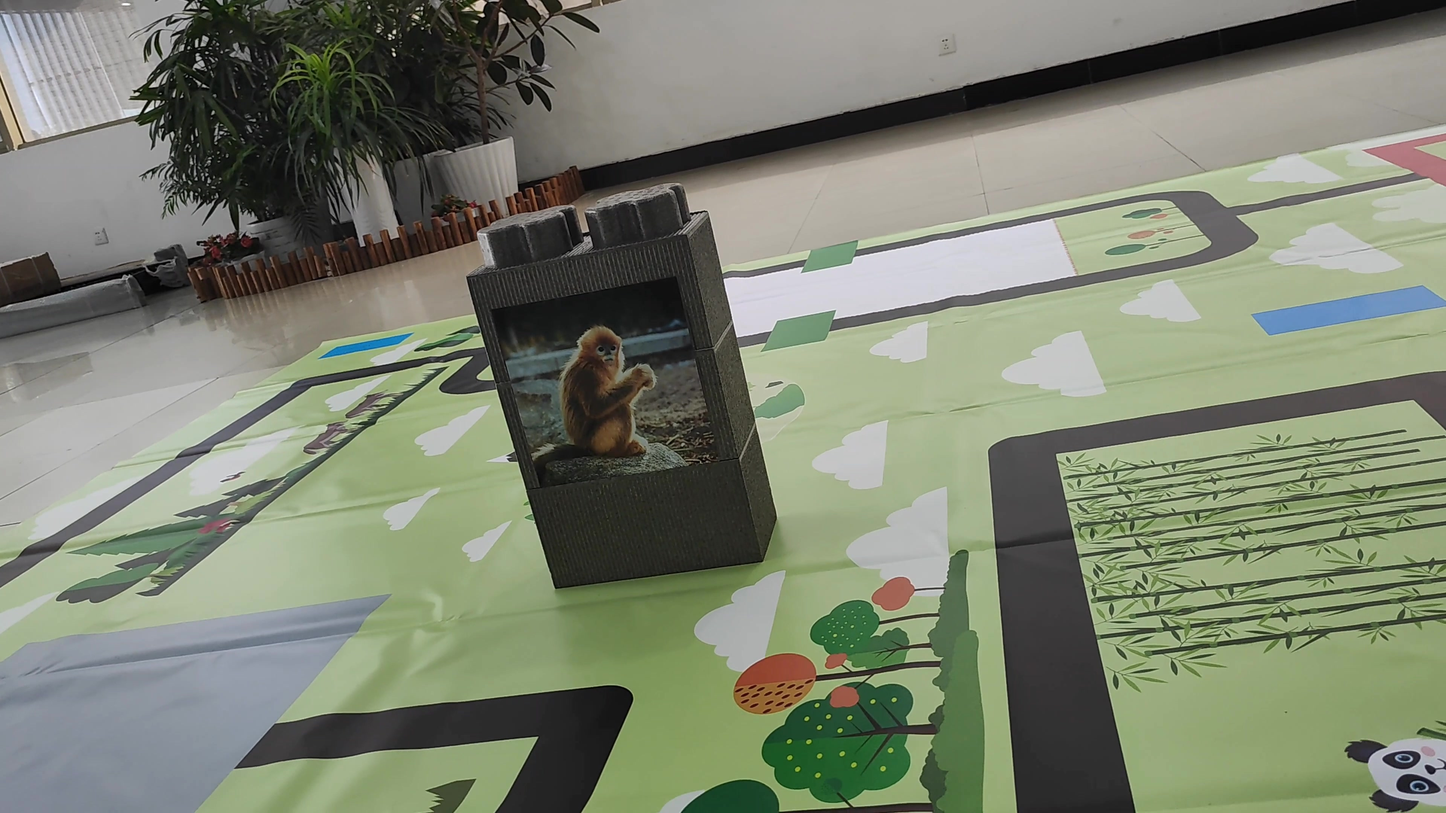monkey: (524, 294, 706, 480)
